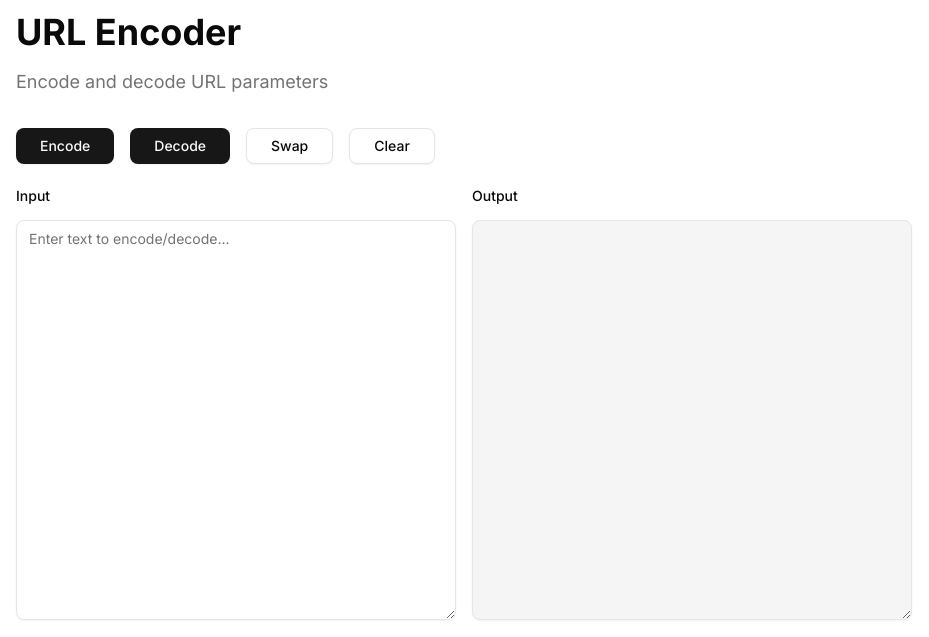
Scenario: UrlEncoder › encodes text to URL encoded format correctly
Type "Hello, world! Special chars: &^%$#@" into the text box with placeholder "Enter text to encode/decode...".
click(236, 420); type("Hello, world! Special chars: &^%$#@")  # box [16,220,456,620]
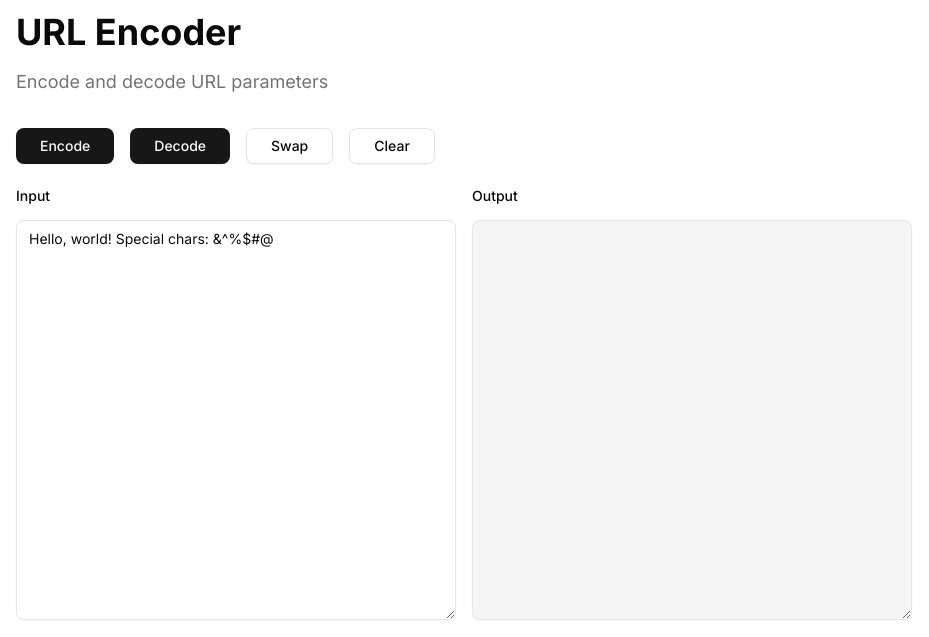
Click the button "Encode".
click(65, 146)  # box [16,128,114,164]
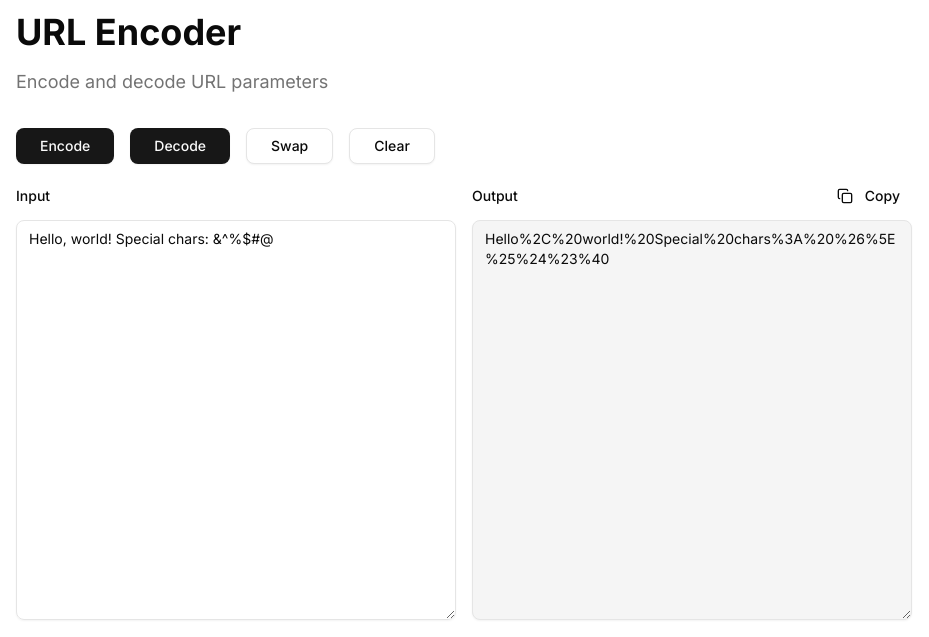
Result: the text box named "output" holds "Hello%2C%20world!%20Special%20chars%3A%20%26%5E%25%24%23%40" at [472,220,912,620]
